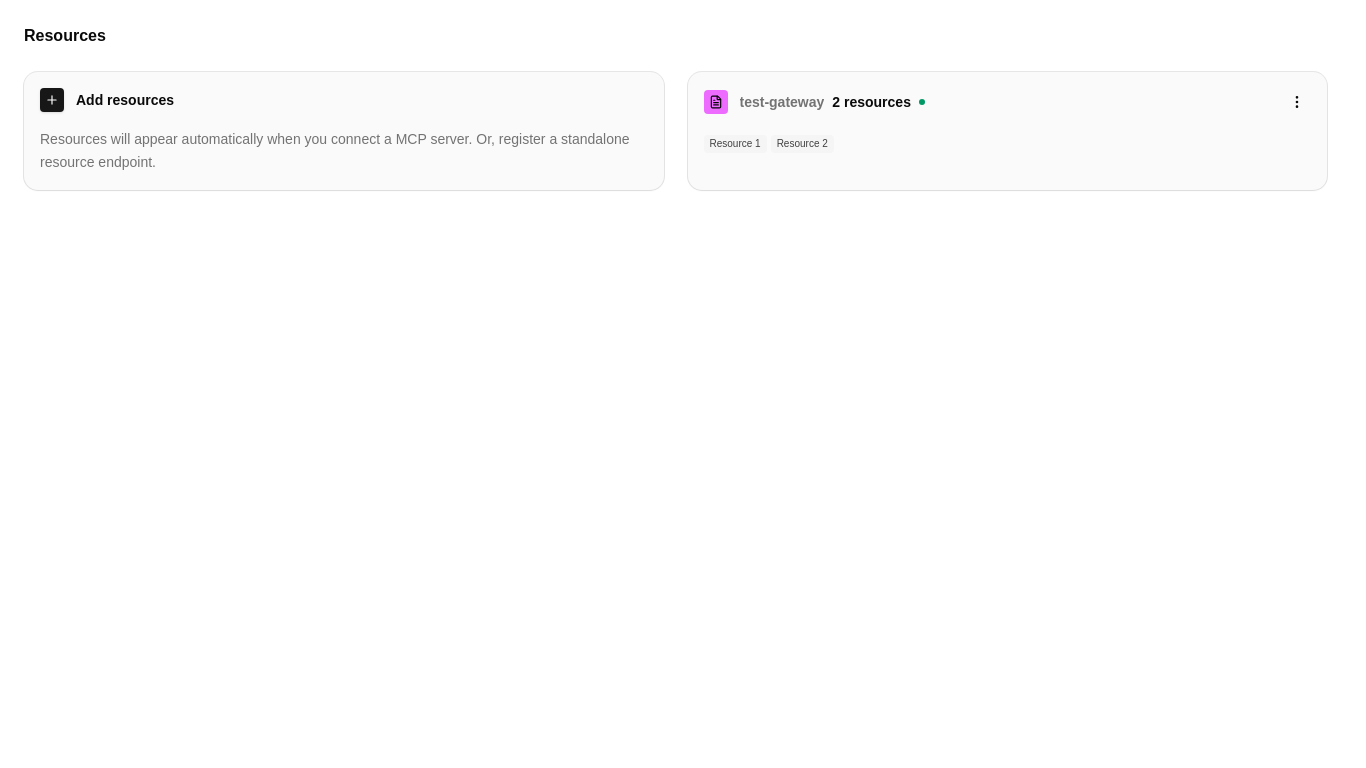
Test: Resources › Dropdown Menu and Details Panel › opens details panel when clicking View Details menu item
Check: the text "test-gateway" is shown, box [740,92,824,112]
Click the button named "More options for test-gateway" at x=1297, y=102, box [1283,88,1311,116]
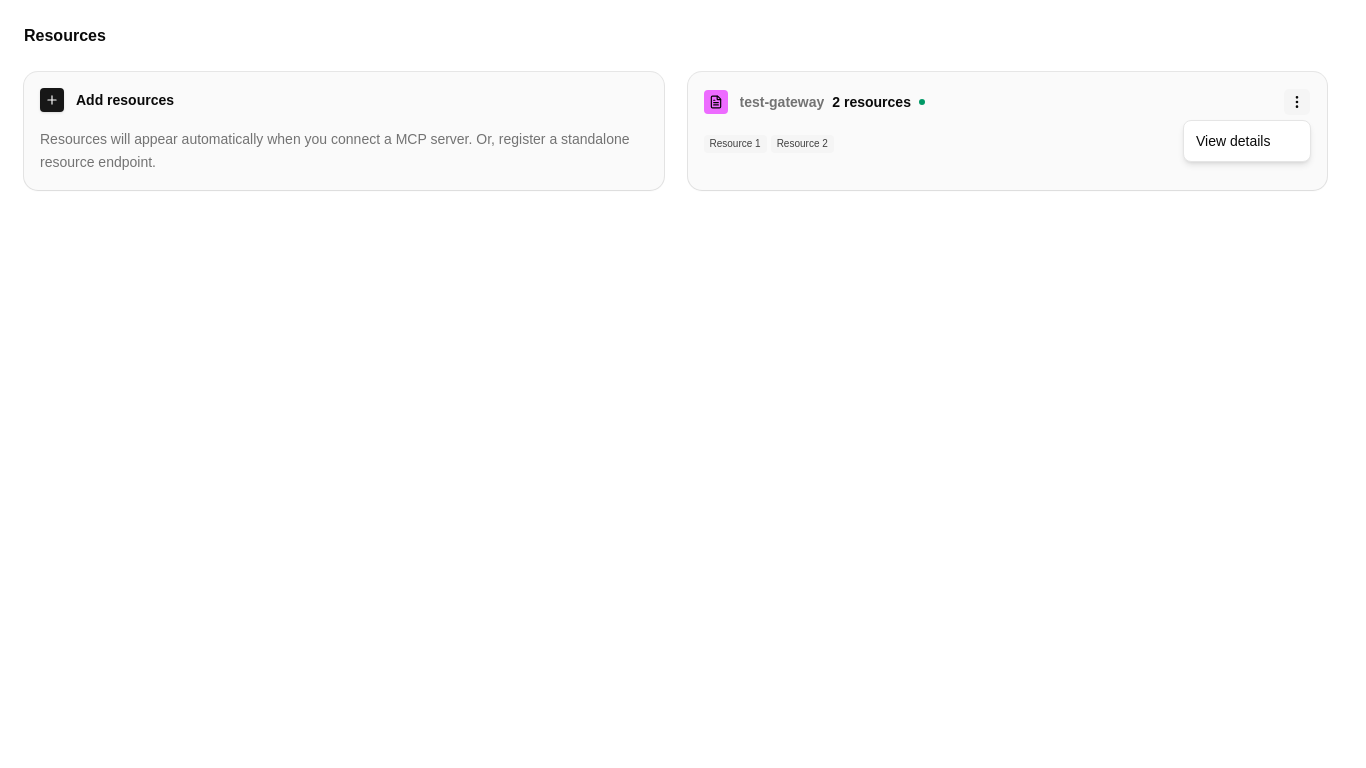
Click the menu item "View details" at x=1233, y=141, box [1196,133,1270,149]
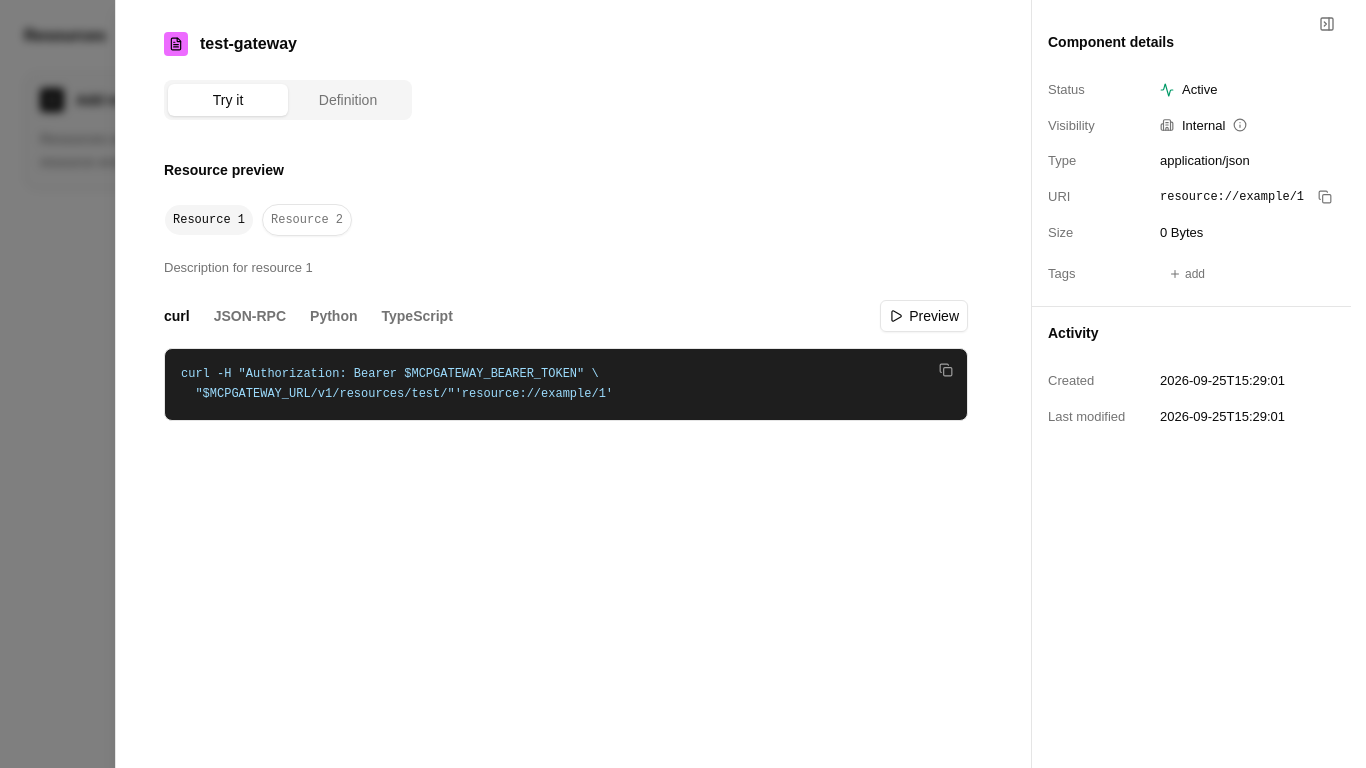
Check: the element named "Resources for test-gateway" is shown
